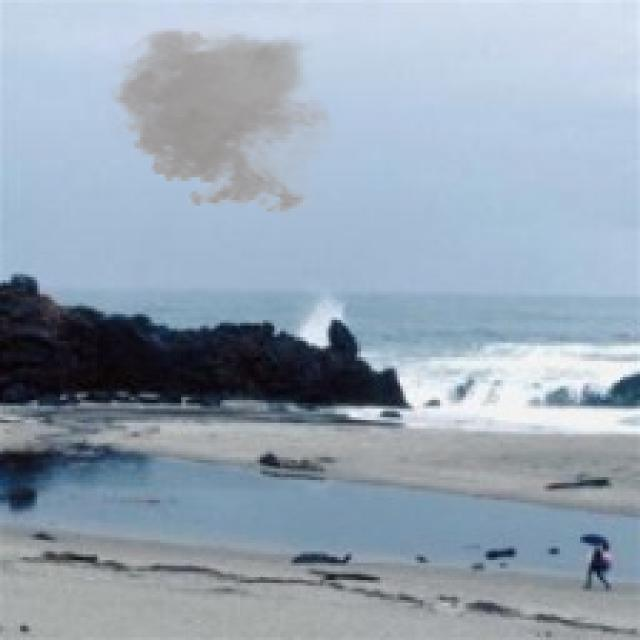smoke: (100, 20, 346, 220)
